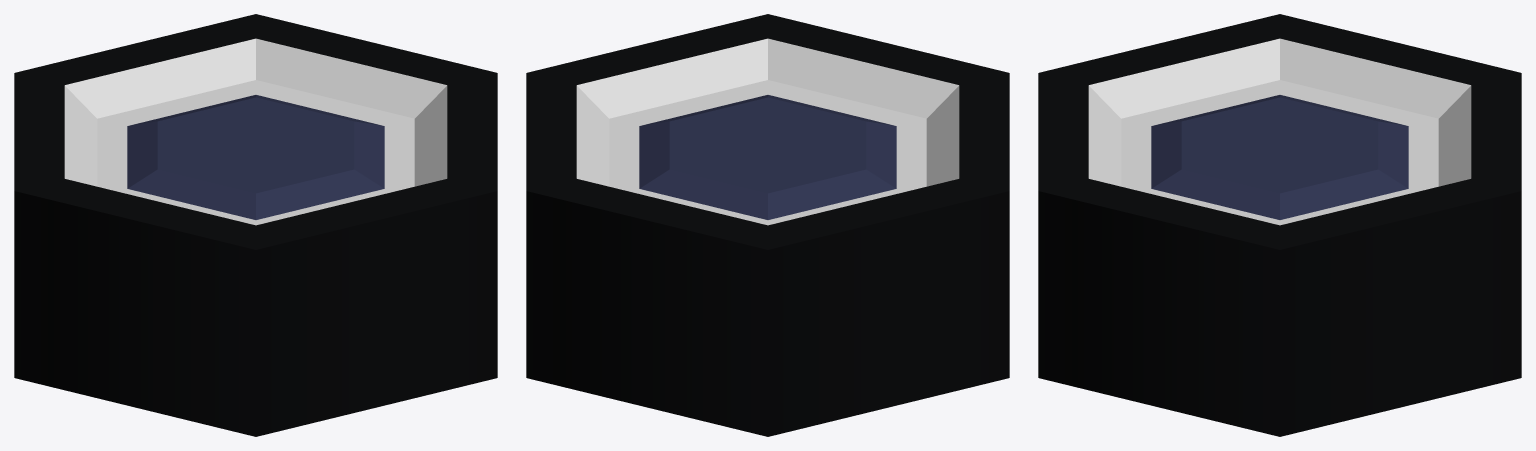
File: Wheel.FBX
The picture shows the model from 3 angles, left to right: view 1: azimuth 30°, elevation 25°; view 2: azimuth 150°, elevation 25°; view 3: azimuth 270°, elevation 25°; orthographic projection.
Visible parts, largest first — view 1: wheell; view 2: wheell; view 3: wheell.
Boxes of the visible parts, x1,y1,x2,y2 form: wheell: [14, 14, 497, 436]; wheell: [526, 14, 1009, 436]; wheell: [1038, 14, 1521, 436].
Bounding box in the file's own units: 11.7 × 4.32 × 10.13.
